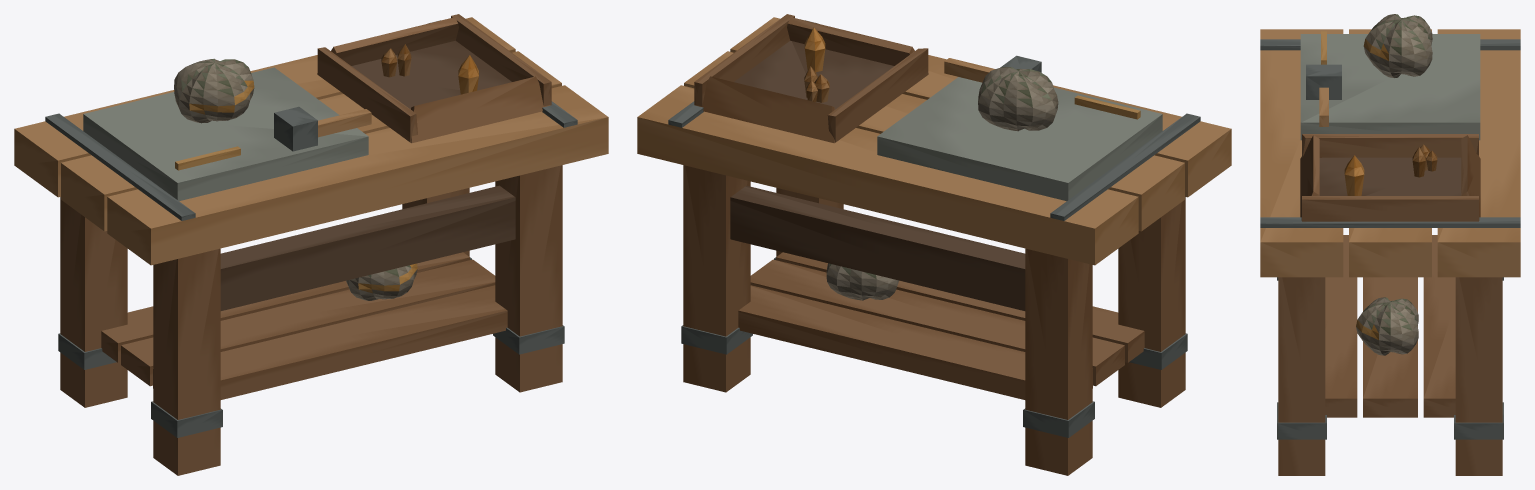
Rendered from earth-workstation.glb.
The picture shows the model from 3 angles, left to right: view 1: azimuth 30°, elevation 25°; view 2: azimuth 150°, elevation 25°; view 3: azimuth 270°, elevation 25°; orthographic projection. The views are drawn at different scales.
Visible parts, largest first — view 1: workstation; view 2: workstation; view 3: workstation.
Boxes of the visible parts, x1=… form: workstation: x1=14, y1=14, x2=608, y2=475; workstation: x1=637, y1=14, x2=1231, y2=475; workstation: x1=1260, y1=14, x2=1520, y2=475.
Size of the model in its own units: 1.82 by 1.3 by 0.94.
1 material, 1 textured.
